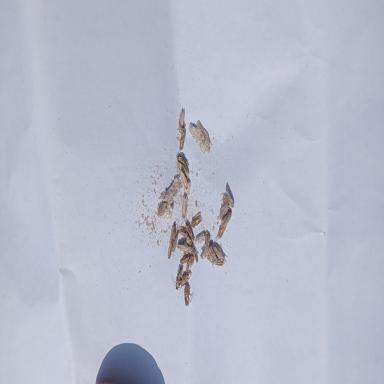pbw: (168, 220, 177, 258), (170, 263, 182, 288), (173, 153, 189, 171), (215, 219, 226, 241), (213, 244, 224, 264), (184, 283, 193, 307), (185, 221, 195, 242), (176, 241, 192, 254), (178, 127, 187, 150), (178, 224, 188, 242), (180, 270, 192, 285), (180, 170, 189, 190), (221, 209, 231, 227), (157, 201, 168, 217), (200, 243, 210, 260), (203, 233, 210, 257), (191, 241, 198, 265), (181, 193, 187, 219), (190, 214, 201, 228), (194, 232, 206, 244), (184, 256, 194, 270), (180, 253, 190, 265), (179, 110, 185, 130), (172, 232, 178, 250)
